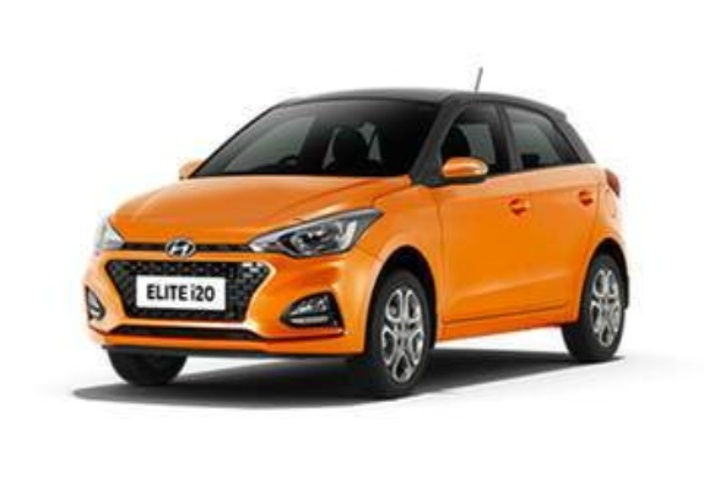car: (73, 69, 641, 409)
